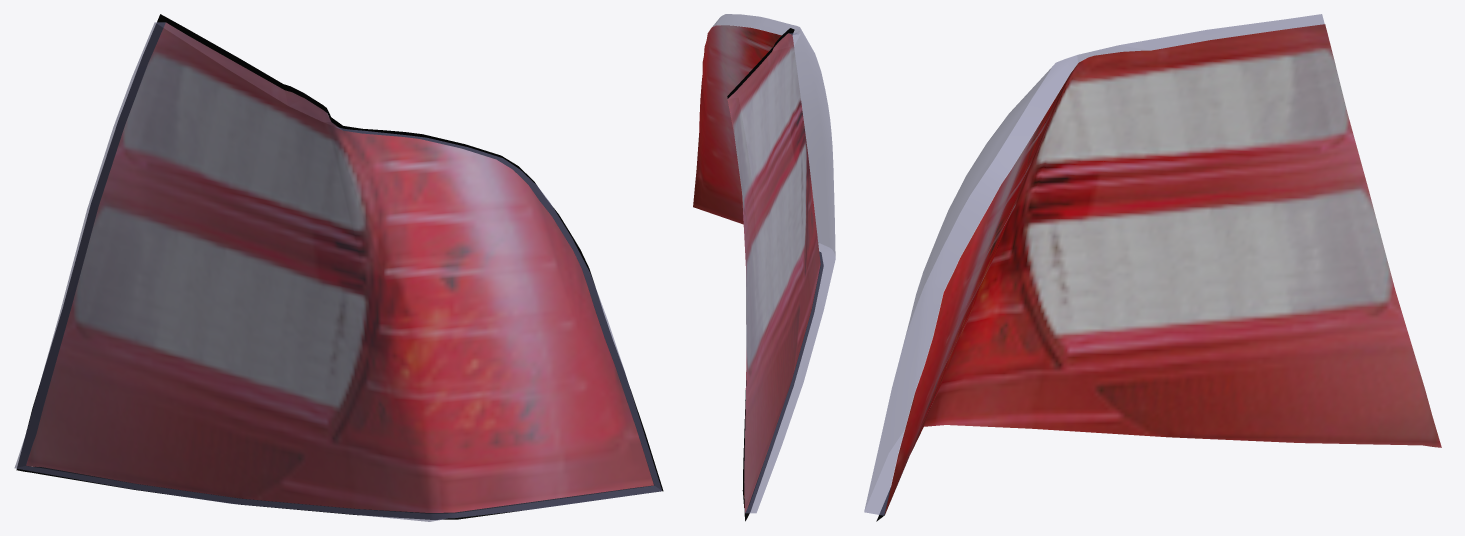
The picture shows the model from 3 angles, left to right: view 1: azimuth 30°, elevation 25°; view 2: azimuth 150°, elevation 25°; view 3: azimuth 270°, elevation 25°; orthographic projection. The views are drawn at different scales.
Parts seen in each view (by area): view 1: X8163_541C_R_1_DTaSI_X8163_541C_R, X8163_541C_R_X8163_541C_R_2_N, X8163_541C_R_X8163_541C_R_3_D; view 2: X8163_541C_R_1_DTaSI_X8163_541C_R, X8163_541C_R_X8163_541C_R_2_N, X8163_541C_R_X8163_541C_R_3_D; view 3: X8163_541C_R_X8163_541C_R_2_N, X8163_541C_R_1_DTaSI_X8163_541C_R.
Boxes of the visible parts, <box> form: X8163_541C_R_1_DTaSI_X8163_541C_R: <box>14,22,661,521</box>; X8163_541C_R_X8163_541C_R_2_N: <box>26,22,653,512</box>; X8163_541C_R_X8163_541C_R_3_D: <box>16,14,663,519</box>; X8163_541C_R_1_DTaSI_X8163_541C_R: <box>712,14,835,513</box>; X8163_541C_R_X8163_541C_R_2_N: <box>693,25,820,512</box>; X8163_541C_R_X8163_541C_R_3_D: <box>727,28,823,521</box>; X8163_541C_R_X8163_541C_R_2_N: <box>884,24,1441,514</box>; X8163_541C_R_1_DTaSI_X8163_541C_R: <box>864,14,1324,515</box>.
Bounding box in the file's own units: 19.18 × 24.07 × 26.89.
